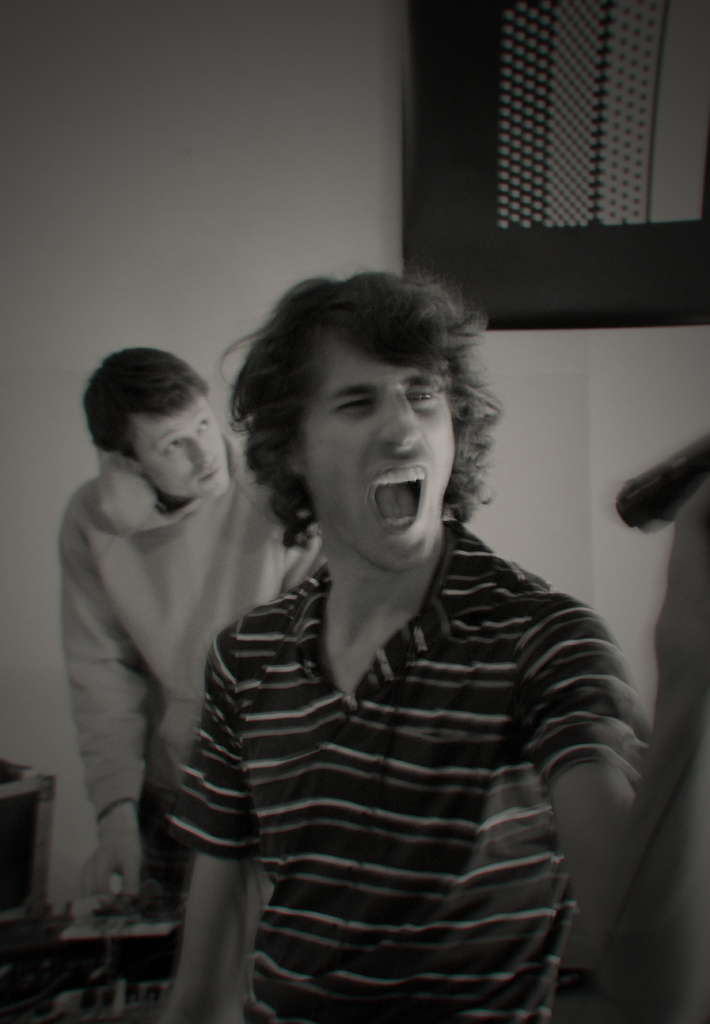Human_hand: (82, 810, 144, 897)
